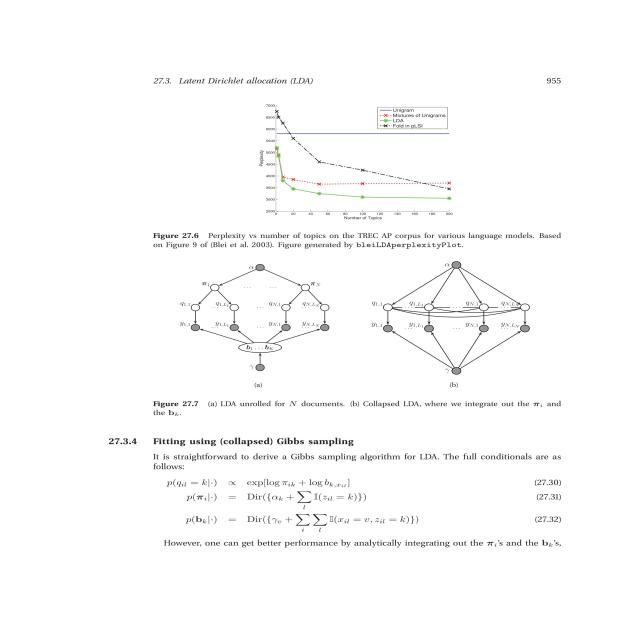diagram: (108, 83, 610, 423)
